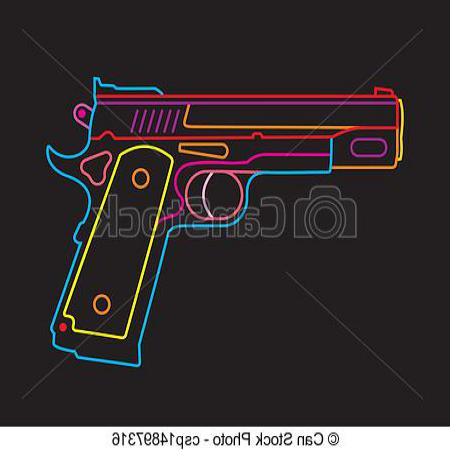Pistol: (47, 74, 406, 366)
